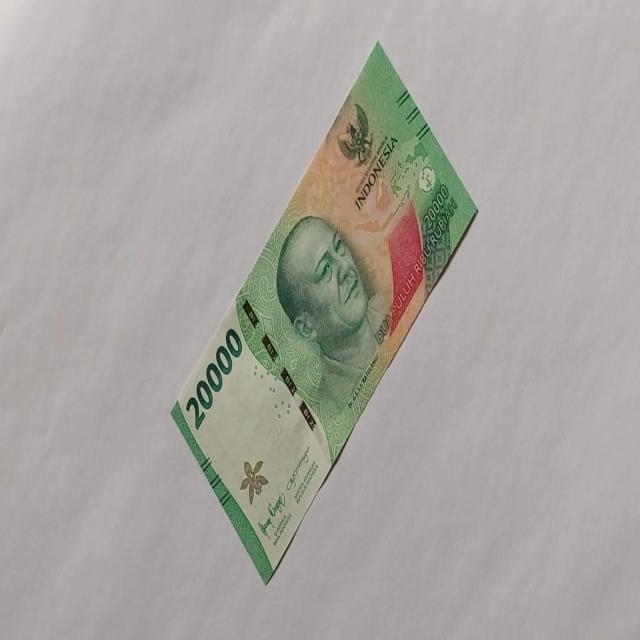dua puluh ribu rupiah: (170, 39, 478, 585), (274, 212, 384, 410), (185, 325, 242, 431)
